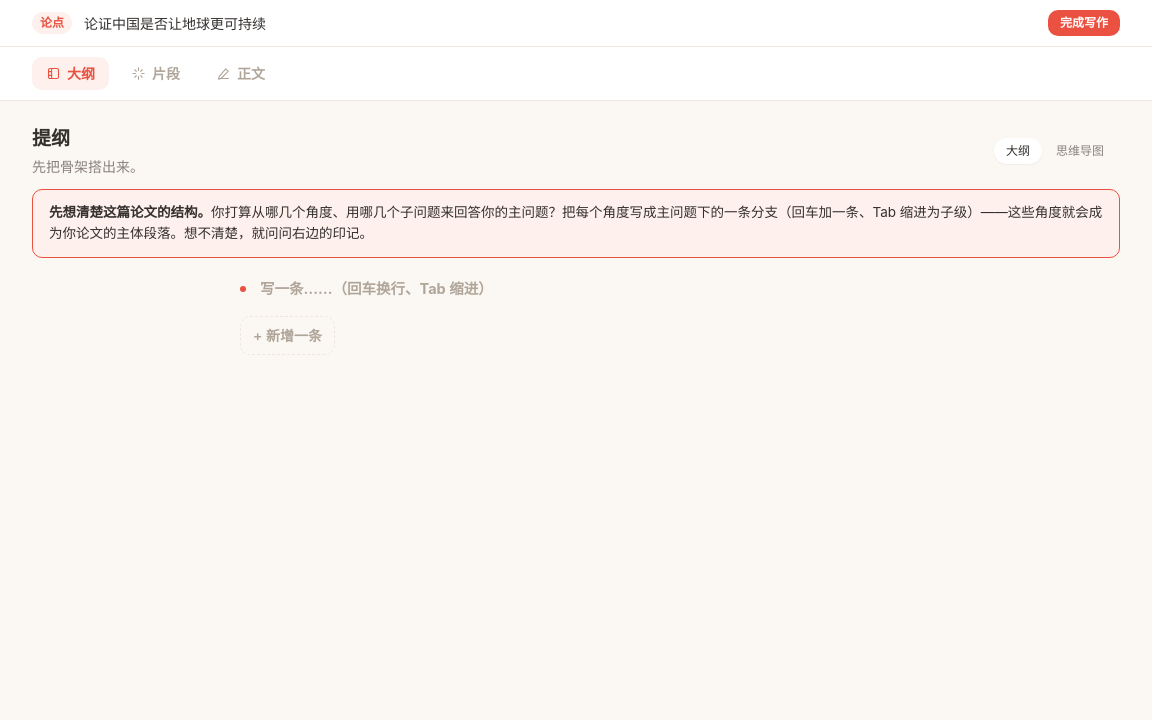
Test case: WritingBlock · 整稿体检 (WA) › 片段 board: a snippet defaults to a read view; double-click edits, ✓ leaves edit mode (item A)
Click the button "片段": (156,74) [117,57,194,90]
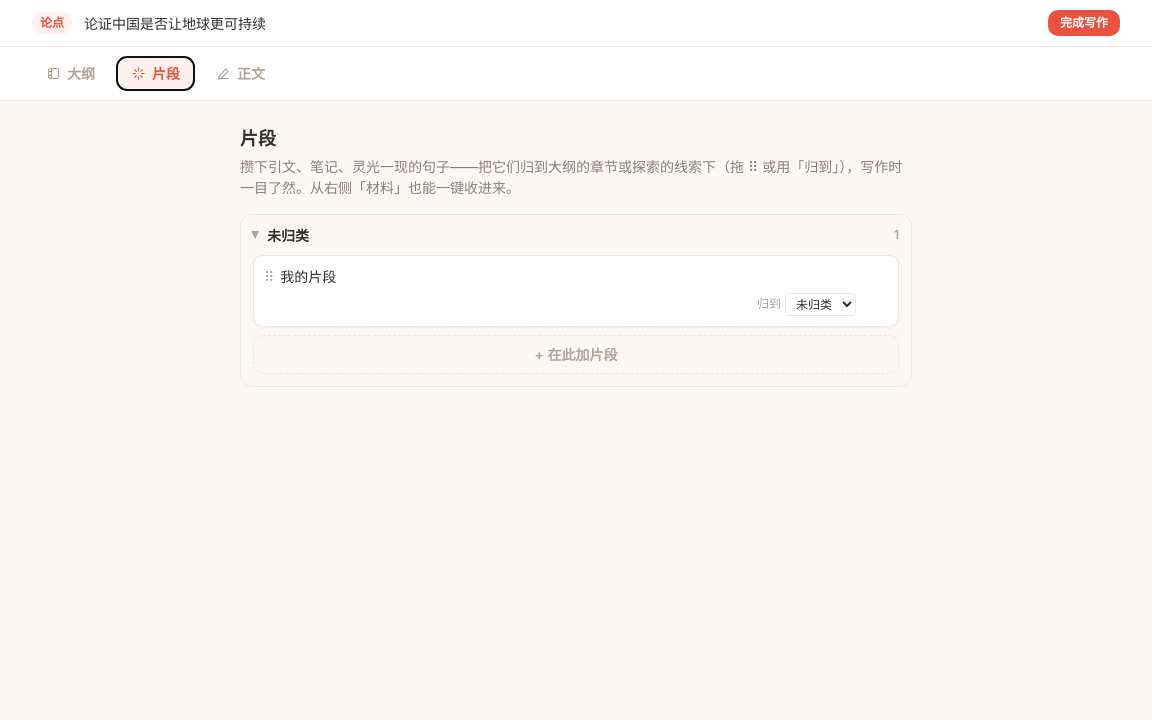
Double-click the button "我的片段": (308,276) [280,266,888,289]
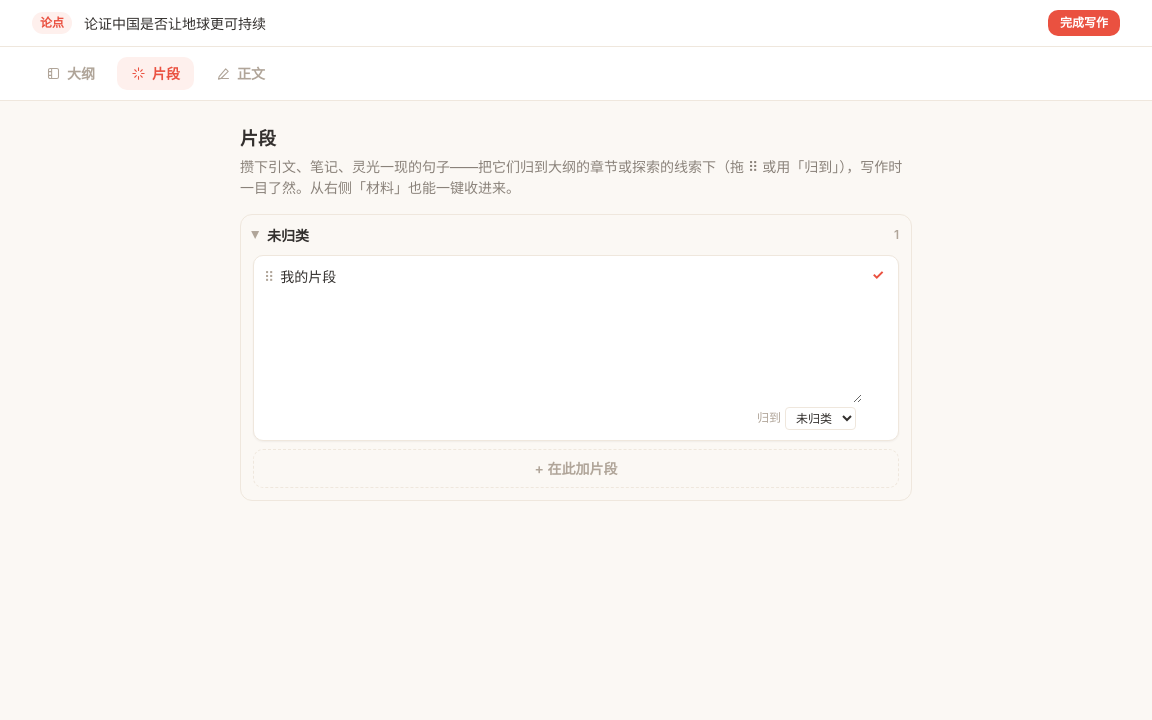
Click the button titled "完成编辑": (878,275) [868,268,888,282]
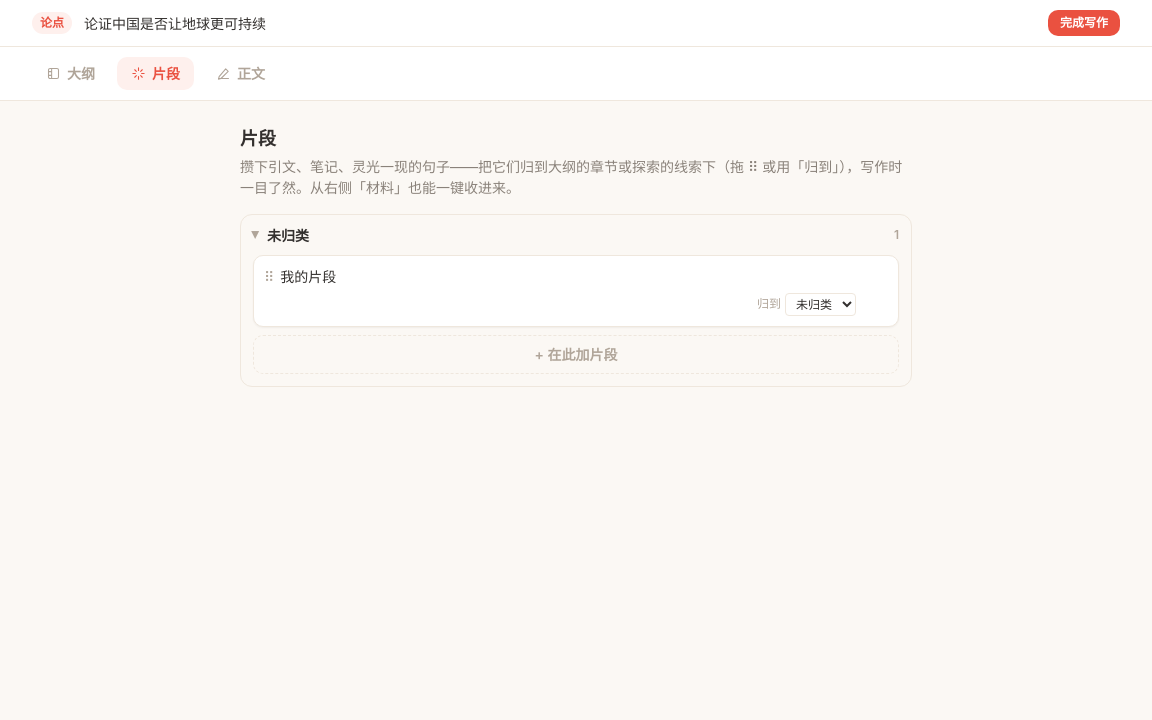
Expected: the button "我的片段" is shown, [280,266,888,289]
